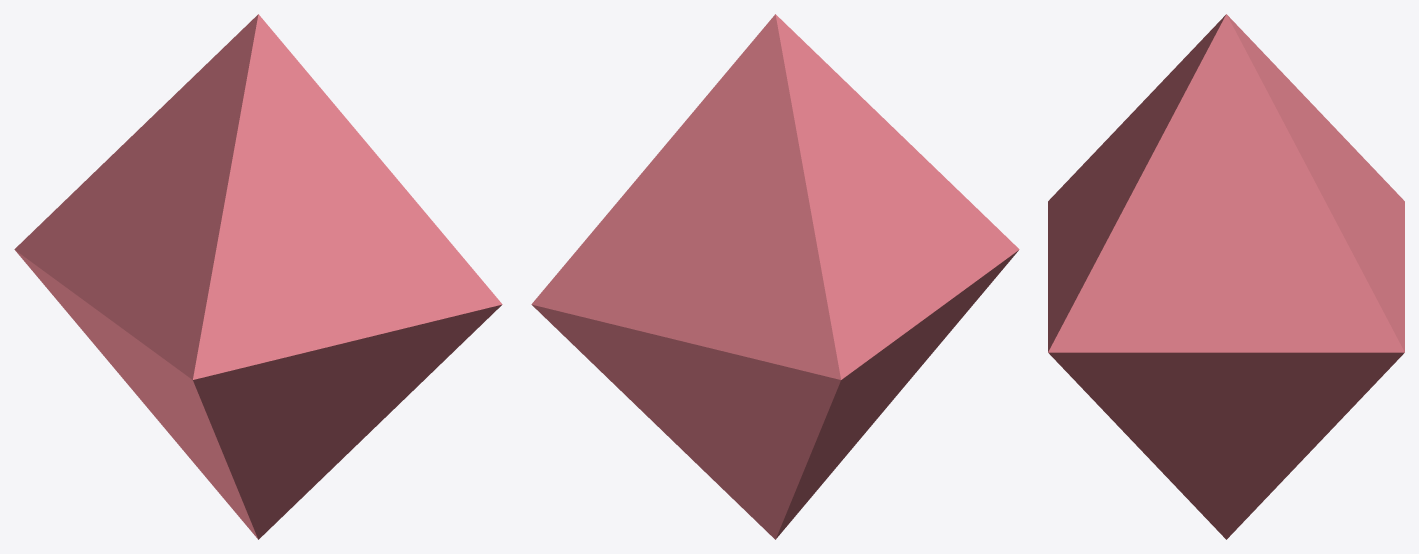
Rendered from boss2 morrendo.fbx.
3 renders of one model, left to right at view 1: azimuth 30°, elevation 25°; view 2: azimuth 150°, elevation 25°; view 3: azimuth 270°, elevation 25°, orthographic.
Parts seen in each view (by area): view 1: Cube.001; view 2: Cube.001; view 3: Cube.001.
Part boxes in pixels (left/top/right/bottom): Cube.001: left=14, top=14, right=502, bottom=539; Cube.001: left=531, top=14, right=1019, bottom=539; Cube.001: left=1048, top=14, right=1404, bottom=539.
Bounding box in the file's own units: 781 × 1267 × 779.
